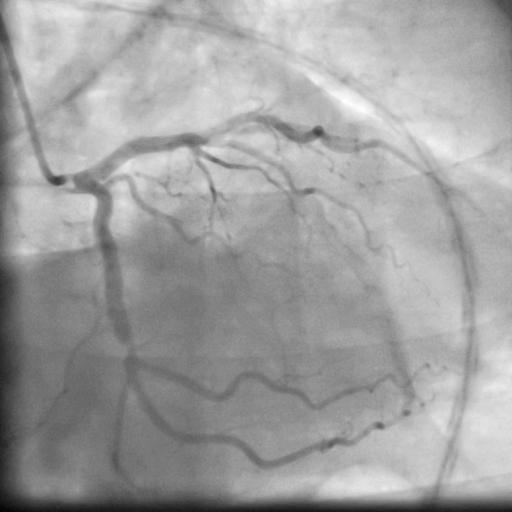Stenosis: (117, 336, 135, 357)
